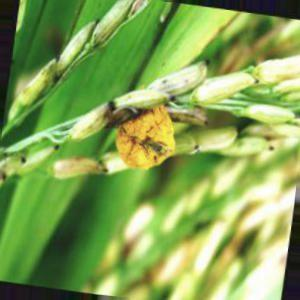Leaf_Scald: (111, 105, 181, 172)
